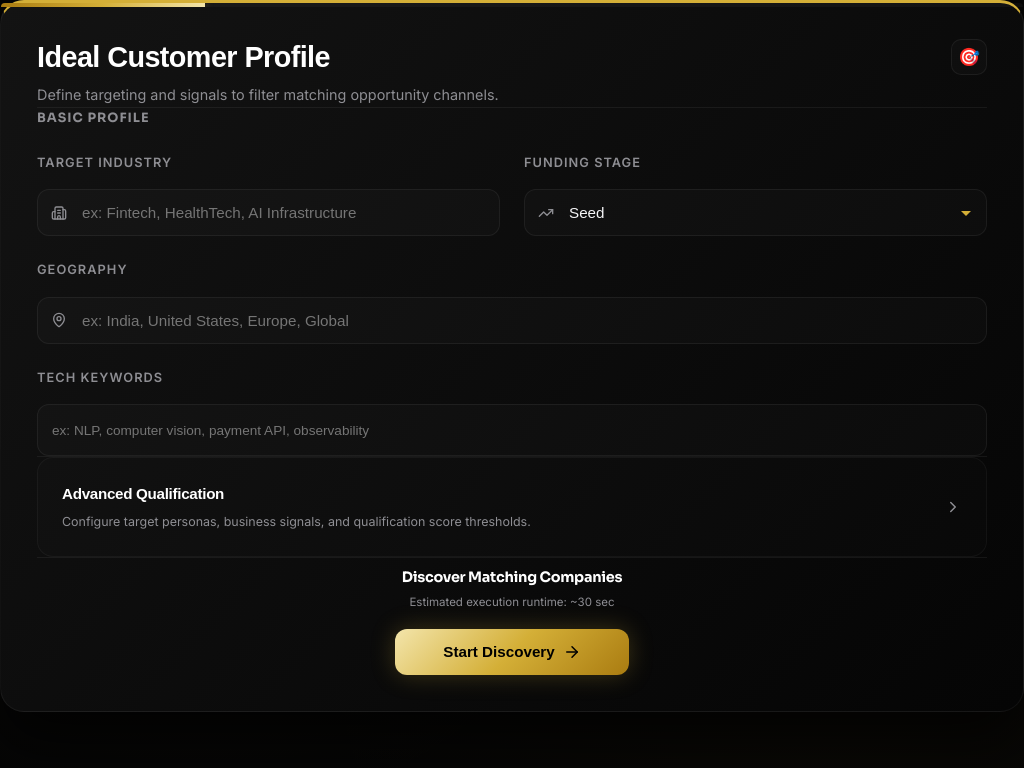
it: ICPForm › adds keyword chip on Enter
The width and height of the screenshot is (1024, 768).
Type "NLP" into the field with placeholder "ex: NLP, computer vision, payment API, observability" at (512, 430), box left=52, top=419, right=972, bottom=442
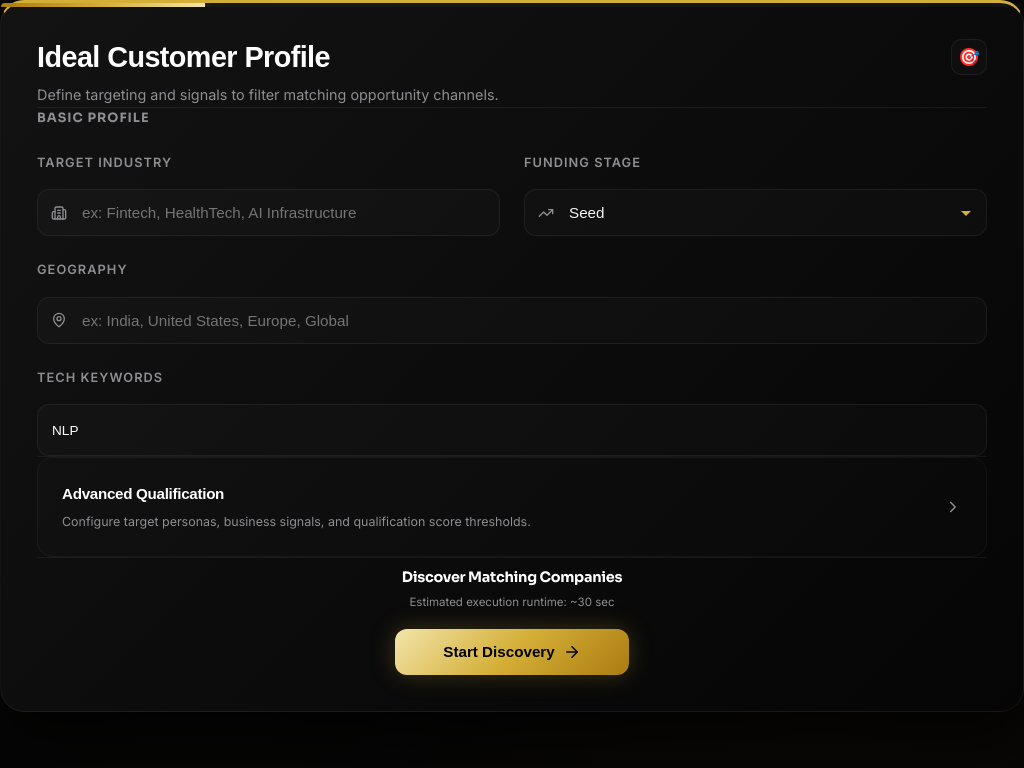
Press Enter in the field with placeholder "ex: NLP, computer vision, payment API, observability", box left=52, top=419, right=972, bottom=442
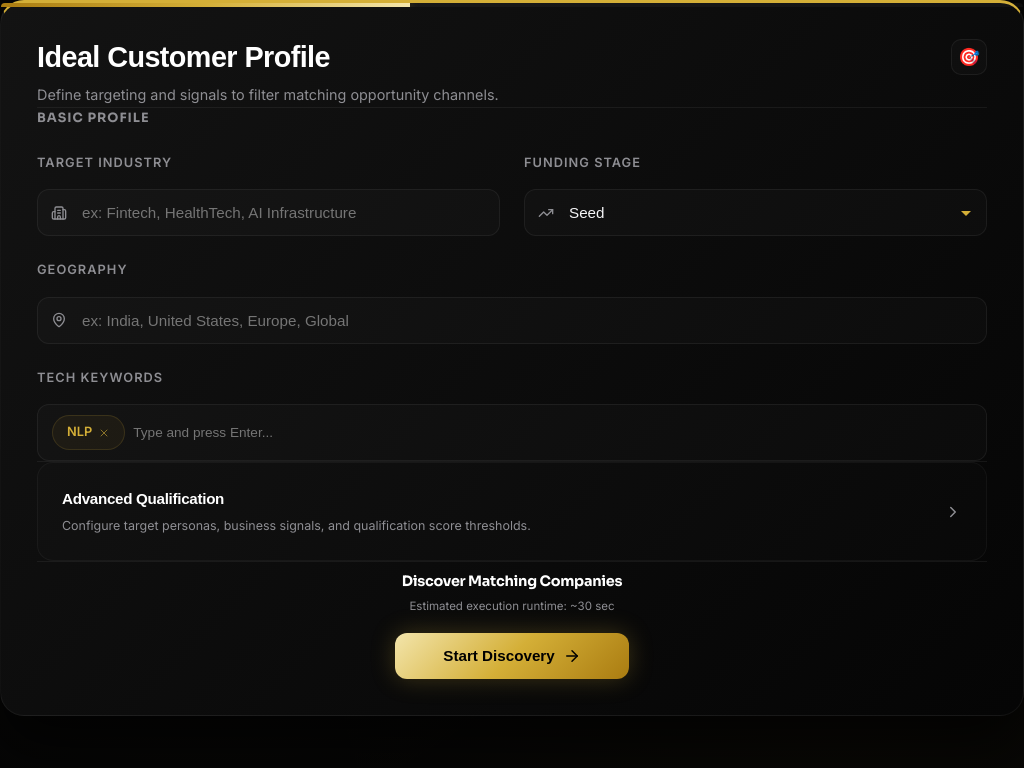
Check: the text "NLP" is shown, box left=52, top=415, right=125, bottom=450
